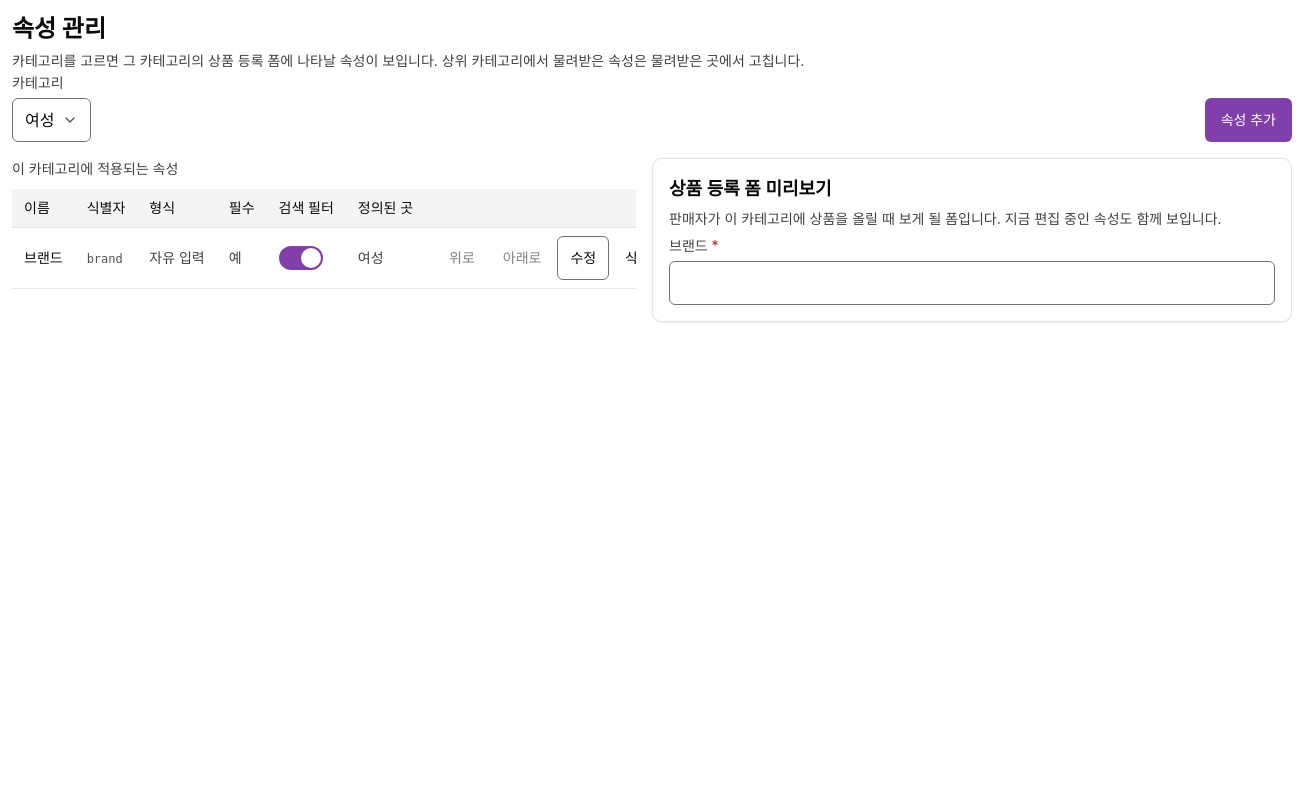
Test: the settings a type asks for (F2) › cannot change key or type once a definition exists
Click the button "수정": (583, 258) [558,236,609,280]
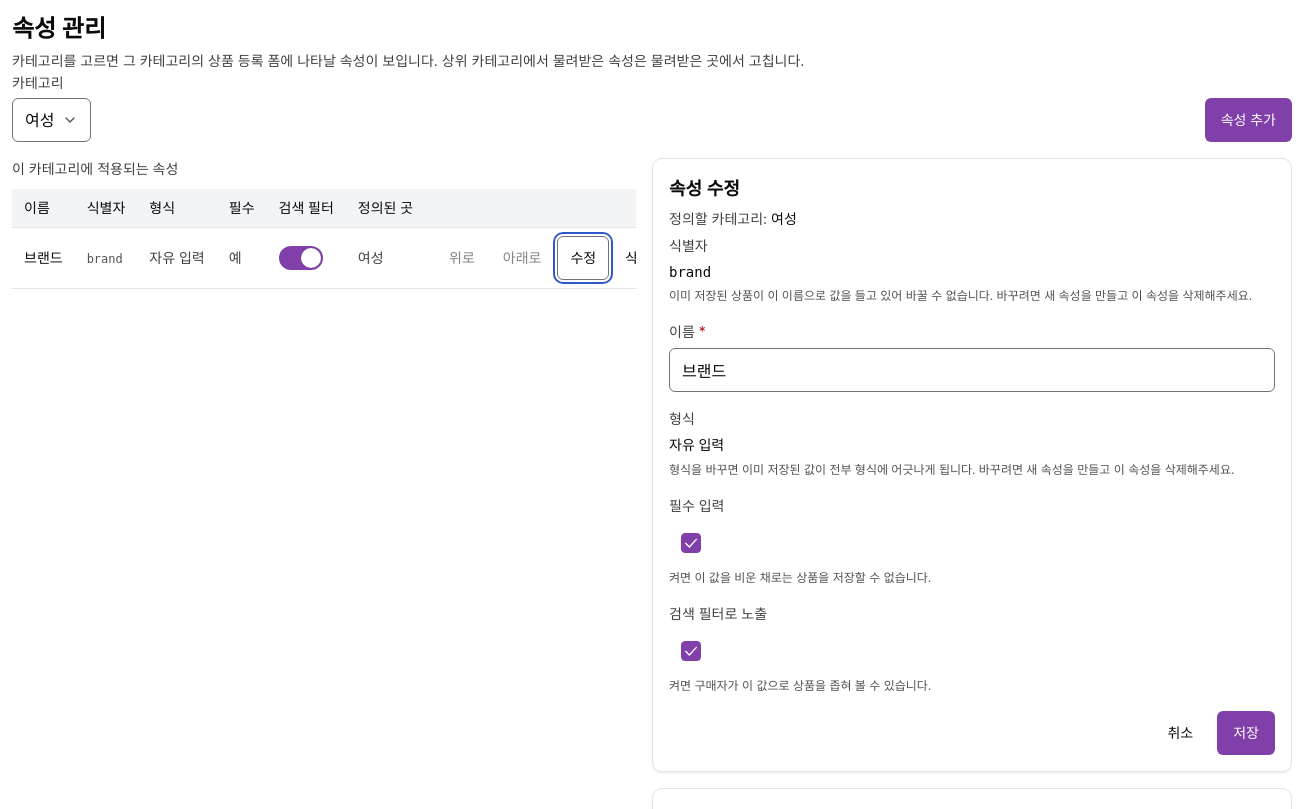
Check: the text "이미 저장된 상품이 이 이름으로 값을 들고 있어 바꿀 수 없습니다. 바꾸려면 새 속성을 만들고 이 속성을 삭제해주세요." is shown, box [669,287,1275,305]
Check: the text "형식을 바꾸면 이미 저장된 값이 전부 형식에 어긋나게 됩니다. 바꾸려면 새 속성을 만들고 이 속성을 삭제해주세요." is shown, box [669,460,1275,478]
Check: the field labelled "이름" holds "브랜드", box [669,348,1275,392]
